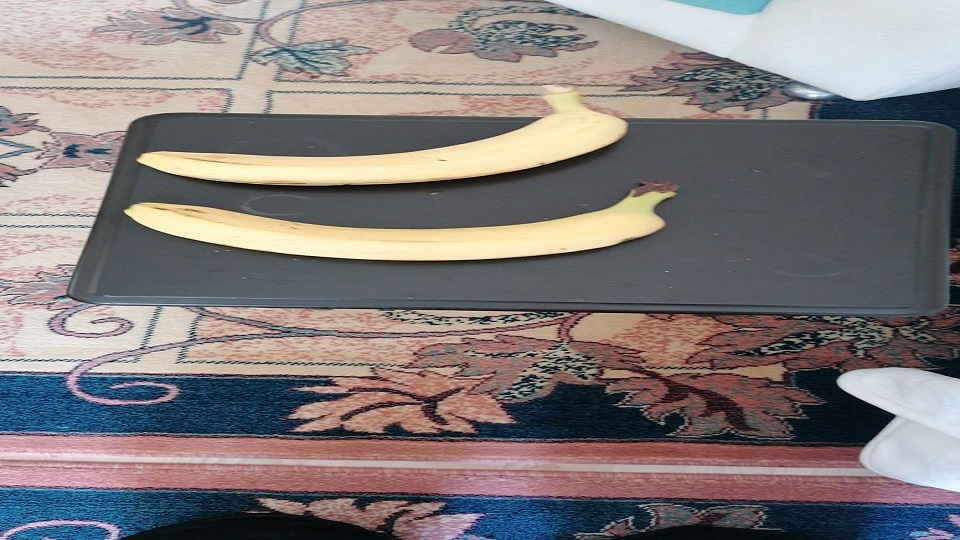muz: (136, 81, 631, 188), (120, 181, 680, 264)
